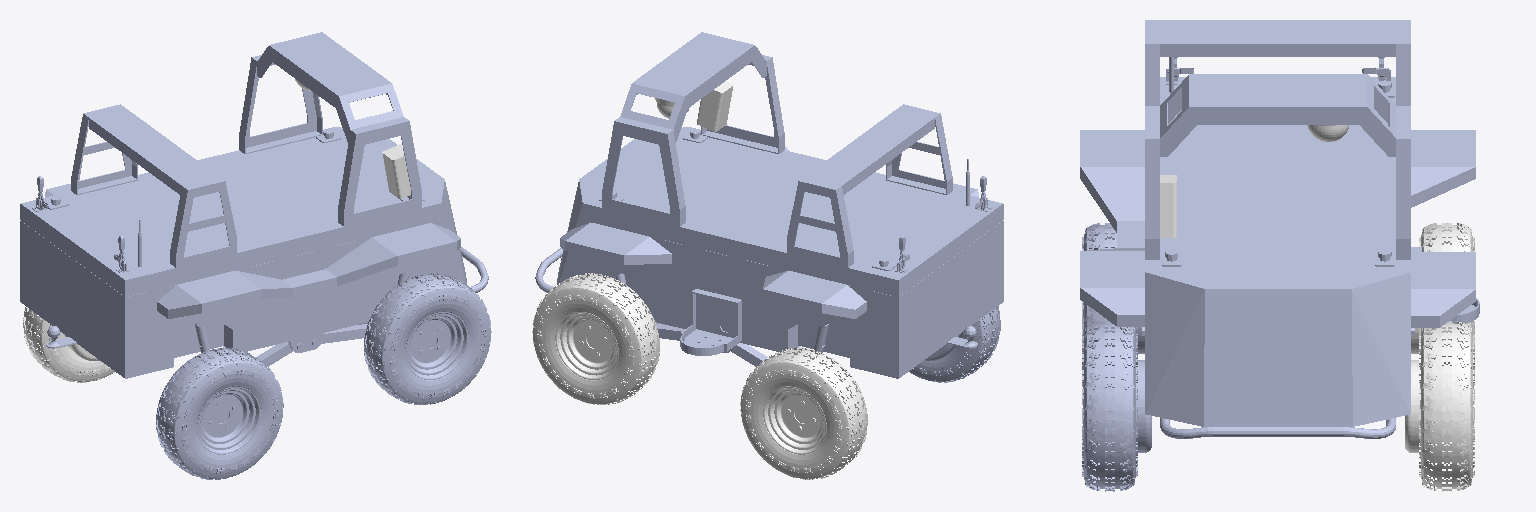
URDF robot description (RAMBLER_MODEL):
<?xml version="1.0" encoding="utf-8"?>
<!-- This URDF was automatically created by SolidWorks to URDF Exporter! Originally created by Stephen Brawner (brawner@gmail.com) 
     Commit Version: 1.6.0-4-g7f85cfe  Build Version: 1.6.7995.38578
     For more information, please see http://wiki.ros.org/sw_urdf_exporter -->
<robot
  name="RAMBLER_MODEL">
  <link
    name="Rambler-chasis">
    <inertial>
      <origin
        xyz="0.049839 -0.3194 0.81553"
        rpy="0 0 0" />
      <mass
        value="410.95" />
      <inertia
        ixx="95.795"
        ixy="-0.00061373"
        ixz="0.070807"
        iyy="118.73"
        iyz="0.56493"
        izz="49.215" />
    </inertial>
    <visual>
      <origin
        xyz="0 0 0"
        rpy="0 0 0" />
      <geometry>
        <mesh
          filename="package://RAMBLER_MODEL/meshes/Rambler-chasis.STL" />
      </geometry>
      <material
        name="">
        <color
          rgba="0.79216 0.81961 0.93333 1" />
      </material>
    </visual>
    <collision>
      <origin
        xyz="0 0 0"
        rpy="0 0 0" />
      <geometry>
        <mesh
          filename="package://RAMBLER_MODEL/meshes/Rambler-chasis.STL" />
      </geometry>
    </collision>
  </link>
  <link
    name="Suspension-delante-dcha">
    <inertial>
      <origin
        xyz="0.049839 -0.3194 0.81553"
        rpy="0 0 0" />
      <mass
        value="410.95" />
      <inertia
        ixx="95.795"
        ixy="-0.00061373"
        ixz="0.070807"
        iyy="118.73"
        iyz="0.56493"
        izz="49.215" />
    </inertial>
    <visual>
      <origin
        xyz="0 0 0"
        rpy="0 0 0" />
      <geometry>
        <mesh
          filename="package://RAMBLER_MODEL/meshes/Suspension-delante-dcha.STL" />
      </geometry>
      <material
        name="">
        <color
          rgba="0.79216 0.81961 0.93333 1" />
      </material>
    </visual>
    <collision>
      <origin
        xyz="0 0 0"
        rpy="0 0 0" />
      <geometry>
        <mesh
          filename="package://RAMBLER_MODEL/meshes/Suspension-delante-dcha.STL" />
      </geometry>
    </collision>
  </link>
  <joint
    name="suspension-delante-dcha"
    type="revolute">
    <origin
      xyz="0.033294 0 -0.03"
      rpy="3.1416 0 1.5708" />
    <parent
      link="Rambler-chasis" />
    <child
      link="Suspension-delante-dcha" />
    <axis
      xyz="1 0 0" />
    <limit
      lower="0"
      upper="0.47124"
      effort="0"
      velocity="0" />
  </joint>
  <link
    name="Piston-delante-dcha">
    <inertial>
      <origin
        xyz="0.049839 -0.3194 0.81553"
        rpy="0 0 0" />
      <mass
        value="410.95" />
      <inertia
        ixx="95.795"
        ixy="-0.00061373"
        ixz="0.070807"
        iyy="118.73"
        iyz="0.56493"
        izz="49.215" />
    </inertial>
    <visual>
      <origin
        xyz="0 0 0"
        rpy="0 0 0" />
      <geometry>
        <mesh
          filename="package://RAMBLER_MODEL/meshes/Piston-delante-dcha.STL" />
      </geometry>
      <material
        name="">
        <color
          rgba="0.79216 0.81961 0.93333 1" />
      </material>
    </visual>
    <collision>
      <origin
        xyz="0 0 0"
        rpy="0 0 0" />
      <geometry>
        <mesh
          filename="package://RAMBLER_MODEL/meshes/Piston-delante-dcha.STL" />
      </geometry>
    </collision>
  </link>
  <joint
    name="piston-delante-dcha"
    type="revolute">
    <origin
      xyz="-0.36 0.37595 0.015382"
      rpy="0 0 0" />
    <parent
      link="Suspension-delante-dcha" />
    <child
      link="Piston-delante-dcha" />
    <axis
      xyz="-1 0 0" />
    <limit
      lower="0"
      upper="0.43633"
      effort="0"
      velocity="0" />
  </joint>
  <link
    name="Rueda-delante-dcha">
    <inertial>
      <origin
        xyz="0.0498394090259186 -0.319396233416161 0.815532777176436"
        rpy="0 0 0" />
      <mass
        value="410.95" />
      <inertia
        ixx="95.7952062704607"
        ixy="-0.000613730429750716"
        ixz="0.0708074089645571"
        iyy="118.733433081717"
        iyz="0.564932560850824"
        izz="49.2145028687947" />
    </inertial>
    <visual>
      <origin
        xyz="0 0 0"
        rpy="0 0 0" />
      <geometry>
        <mesh
          filename="package://RAMBLER_MODEL/meshes/Rueda-delante-dcha.STL" />
      </geometry>
      <material
        name="">
        <color
          rgba="0.792156862745098 0.819607843137255 0.933333333333333 1" />
      </material>
    </visual>
    <collision>
      <origin
        xyz="0 0 0"
        rpy="0 0 0" />
      <geometry>
        <cylinder length="0.165" radius="0.50"/>
        <!--mesh
          filename="package://RAMBLER_MODEL/meshes/Rueda-delante-dcha.STL" /-->
      </geometry>
    </collision>
  </link>
  <joint
    name="rueda-delante-dcha"
    type="continuous">
    <origin
      xyz="-0.522445710742998 0.435600590171303 0.0457834669112627"
      rpy="3.14159265358979 0 1.5707963267949" />
    <parent
      link="Suspension-delante-dcha" />
    <child
      link="Rueda-delante-dcha" />
    <axis
      xyz="0 1 0" />
  </joint>
  <link
    name="Suspension-delante-izq">
    <inertial>
      <origin
        xyz="0.049839 -0.3194 0.81553"
        rpy="0 0 0" />
      <mass
        value="410.95" />
      <inertia
        ixx="95.795"
        ixy="-0.00061373"
        ixz="0.070807"
        iyy="118.73"
        iyz="0.56493"
        izz="49.215" />
    </inertial>
    <visual>
      <origin
        xyz="0 0 0"
        rpy="0 0 0" />
      <geometry>
        <mesh
          filename="package://RAMBLER_MODEL/meshes/Suspension-delante-izq.STL" />
      </geometry>
      <material
        name="">
        <color
          rgba="0.79216 0.81961 0.93333 1" />
      </material>
    </visual>
    <collision>
      <origin
        xyz="0 0 0"
        rpy="0 0 0" />
      <geometry>
        <mesh
          filename="package://RAMBLER_MODEL/meshes/Suspension-delante-izq.STL" />
      </geometry>
    </collision>
  </link>
  <joint
    name="suspension-delante-izq"
    type="revolute">
    <origin
      xyz="0.033294 0 -0.03"
      rpy="3.1416 0 1.5708" />
    <parent
      link="Rambler-chasis" />
    <child
      link="Suspension-delante-izq" />
    <axis
      xyz="1 0 0" />
    <limit
      lower="0"
      upper="0.47124"
      effort="0"
      velocity="0" />
  </joint>
  <link
    name="Piston-delante-izq">
    <inertial>
      <origin
        xyz="0.0498394090259186 -0.319396233416161 0.815532777176436"
        rpy="0 0 0" />
      <mass
        value="410.95" />
      <inertia
        ixx="95.7952062704607"
        ixy="-0.000613730429750716"
        ixz="0.0708074089645571"
        iyy="118.733433081717"
        iyz="0.564932560850824"
        izz="49.2145028687947" />
    </inertial>
    <visual>
      <origin
        xyz="0 0 0"
        rpy="0 0 0" />
      <geometry>
        <mesh
          filename="package://RAMBLER_MODEL/meshes/Piston-delante-izq.STL" />
      </geometry>
      <material
        name="">
        <color
          rgba="0.792156862745098 0.819607843137255 0.933333333333333 1" />
      </material>
    </visual>
    <collision>
      <origin
        xyz="0 0 0"
        rpy="0 0 0" />
      <geometry>
        <mesh
          filename="package://RAMBLER_MODEL/meshes/Piston-delante-izq.STL" />
      </geometry>
    </collision>
  </link>
  <joint
    name="piston-delante-izq"
    type="revolute">
    <origin
      xyz="-0.36 0.37595 0.015382"
      rpy="0 0 0" />
    <parent
      link="Suspension-delante-izq" />
    <child
      link="Piston-delante-izq" />
    <axis
      xyz="-1 0 0" />
    <limit
      lower="0"
      upper="0.43633"
      effort="0"
      velocity="0" />
  </joint>
  <link
    name="Rueda-delante-izq">
    <inertial>
      <origin
        xyz="0.0498394090259186 -0.319396233416161 0.815532777176436"
        rpy="0 0 0" />
      <mass
        value="410.95" />
      <inertia
        ixx="95.7952062704607"
        ixy="-0.000613730429750716"
        ixz="0.0708074089645571"
        iyy="118.733433081717"
        iyz="0.564932560850824"
        izz="49.2145028687947" />
    </inertial>
    <visual>
      <origin
        xyz="0 0 0"
        rpy="0 0 0" />
      <geometry>
        <mesh
          filename="package://RAMBLER_MODEL/meshes/Rueda-delante-izq.STL" />
      </geometry>
      <material
        name="">
        <color
          rgba="1 1 1 1" />
      </material>
    </visual>
    <collision>
      <origin
        xyz="0 0 0"
        rpy="0 0 0" />
      <geometry>
        <cylinder length="0.165" radius="0.50"/>
        <!--mesh
          filename="package://RAMBLER_MODEL/meshes/Rueda-delante-izq.STL" /-->
      </geometry>
    </collision>
  </link>
  <joint
    name="rueda-delante-izq"
    type="continuous">
    <origin
      xyz="0.52245 0.4356 0.045783"
      rpy="3.1416 0 1.5708" />
    <parent
      link="Suspension-delante-izq" />
    <child
      link="Rueda-delante-izq" />
    <axis
      xyz="0 1 0" />
  </joint>
  <link
    name="Suspension-atras-dcha">
    <inertial>
      <origin
        xyz="0.0498394090259186 -0.319396233416161 0.815532777176436"
        rpy="0 0 0" />
      <mass
        value="410.95" />
      <inertia
        ixx="95.7952062704607"
        ixy="-0.000613730429750716"
        ixz="0.0708074089645571"
        iyy="118.733433081717"
        iyz="0.564932560850824"
        izz="49.2145028687947" />
    </inertial>
    <visual>
      <origin
        xyz="0 0 0"
        rpy="0 0 0" />
      <geometry>
        <mesh
          filename="package://RAMBLER_MODEL/meshes/Suspension-atras-dcha.STL" />
      </geometry>
      <material
        name="">
        <color
          rgba="0.792156862745098 0.819607843137255 0.933333333333333 1" />
      </material>
    </visual>
    <collision>
      <origin
        xyz="0 0 0"
        rpy="0 0 0" />
      <geometry>
        <mesh
          filename="package://RAMBLER_MODEL/meshes/Suspension-atras-dcha.STL" />
      </geometry>
    </collision>
  </link>
  <joint
    name="suspension-atras-dcha"
    type="revolute">
    <origin
      xyz="-0.033294 0 -0.03"
      rpy="3.1416 0 1.5708" />
    <parent
      link="Rambler-chasis" />
    <child
      link="Suspension-atras-dcha" />
    <axis
      xyz="1 0 0" />
    <limit
      lower="5.812"
      upper="6.2832"
      effort="0"
      velocity="0" />
  </joint>
  <link
    name="Piston-atras-dcha">
    <inertial>
      <origin
        xyz="0.0498394090259186 -0.319396233416161 0.815532777176436"
        rpy="0 0 0" />
      <mass
        value="410.95" />
      <inertia
        ixx="95.7952062704607"
        ixy="-0.000613730429750716"
        ixz="0.0708074089645571"
        iyy="118.733433081717"
        iyz="0.564932560850824"
        izz="49.2145028687947" />
    </inertial>
    <visual>
      <origin
        xyz="0 0 0"
        rpy="0 0 0" />
      <geometry>
        <mesh
          filename="package://RAMBLER_MODEL/meshes/Piston-atras-dcha.STL" />
      </geometry>
      <material
        name="">
        <color
          rgba="0.792156862745098 0.819607843137255 0.933333333333333 1" />
      </material>
    </visual>
    <collision>
      <origin
        xyz="0 0 0"
        rpy="0 0 0" />
      <geometry>
        <mesh
          filename="package://RAMBLER_MODEL/meshes/Piston-atras-dcha.STL" />
      </geometry>
    </collision>
  </link>
  <joint
    name="piston-atras-dcha"
    type="revolute">
    <origin
      xyz="-0.36 -0.37595 0.015382"
      rpy="0 0 0" />
    <parent
      link="Suspension-atras-dcha" />
    <child
      link="Piston-atras-dcha" />
    <axis
      xyz="-1 0 0" />
    <limit
      lower="5.8469"
      upper="6.2832"
      effort="0"
      velocity="0" />
  </joint>
  <link
    name="Rueda-atras-dcha">
    <inertial>
      <origin
        xyz="0.0498394090259186 -0.319396233416161 0.815532777176436"
        rpy="0 0 0" />
      <mass
        value="410.95" />
      <inertia
        ixx="95.7952062704607"
        ixy="-0.000613730429750716"
        ixz="0.0708074089645571"
        iyy="118.733433081717"
        iyz="0.564932560850824"
        izz="49.2145028687947" />
    </inertial>
    <visual>
      <origin
        xyz="0 0 0"
        rpy="0 0 0" />
      <geometry>
        <mesh
          filename="package://RAMBLER_MODEL/meshes/Rueda-atras-dcha.STL" />
      </geometry>
      <material
        name="">
        <color
          rgba="0.792156862745098 0.819607843137255 0.933333333333333 1" />
      </material>
    </visual>
    <collision>
      <origin
        xyz="0 0 0"
        rpy="0 0 0" />
      <geometry>
        <cylinder length="0.165" radius="0.50"/>
        <!--mesh
          filename="package://RAMBLER_MODEL/meshes/Rueda-atras-dcha.STL" /-->
      </geometry>
    </collision>
  </link>
  <joint
    name="rueda-atras-dcha"
    type="continuous">
    <origin
      xyz="-0.522445710742998 -0.435600590171305 0.0457834669112622"
      rpy="3.14159265358979 0 1.5707963267949" />
    <parent
      link="Suspension-atras-dcha" />
    <child
      link="Rueda-atras-dcha" />
    <axis
      xyz="0 1 0" />
  </joint>
  <link
    name="Suspension-atras-izq">
    <inertial>
      <origin
        xyz="0.0498394090259186 -0.319396233416161 0.815532777176436"
        rpy="0 0 0" />
      <mass
        value="410.95" />
      <inertia
        ixx="95.7952062704607"
        ixy="-0.000613730429750716"
        ixz="0.0708074089645571"
        iyy="118.733433081717"
        iyz="0.564932560850824"
        izz="49.2145028687947" />
    </inertial>
    <visual>
      <origin
        xyz="0 0 0"
        rpy="0 0 0" />
      <geometry>
        <mesh
          filename="package://RAMBLER_MODEL/meshes/Suspension-atras-izq.STL" />
      </geometry>
      <material
        name="">
        <color
          rgba="0.792156862745098 0.819607843137255 0.933333333333333 1" />
      </material>
    </visual>
    <collision>
      <origin
        xyz="0 0 0"
        rpy="0 0 0" />
      <geometry>
        <mesh
          filename="package://RAMBLER_MODEL/meshes/Suspension-atras-izq.STL" />
      </geometry>
    </collision>
  </link>
  <joint
    name="suspension-atras-izq"
    type="revolute">
    <origin
      xyz="-0.033294 0 -0.03"
      rpy="3.1416 0 1.5708" />
    <parent
      link="Rambler-chasis" />
    <child
      link="Suspension-atras-izq" />
    <axis
      xyz="1 0 0" />
    <limit
      lower="5.812"
      upper="6.2832"
      effort="0"
      velocity="0" />
  </joint>
  <link
    name="Piston-atras-izq">
    <inertial>
      <origin
        xyz="0.0498394090259186 -0.319396233416161 0.815532777176436"
        rpy="0 0 0" />
      <mass
        value="410.95" />
      <inertia
        ixx="95.7952062704607"
        ixy="-0.000613730429750716"
        ixz="0.0708074089645571"
        iyy="118.733433081717"
        iyz="0.564932560850824"
        izz="49.2145028687947" />
    </inertial>
    <visual>
      <origin
        xyz="0 0 0"
        rpy="0 0 0" />
      <geometry>
        <mesh
          filename="package://RAMBLER_MODEL/meshes/Piston-atras-izq.STL" />
      </geometry>
      <material
        name="">
        <color
          rgba="0.792156862745098 0.819607843137255 0.933333333333333 1" />
      </material>
    </visual>
    <collision>
      <origin
        xyz="0 0 0"
        rpy="0 0 0" />
      <geometry>
        <mesh
          filename="package://RAMBLER_MODEL/meshes/Piston-atras-izq.STL" />
      </geometry>
    </collision>
  </link>
  <joint
    name="piston-atras-izq"
    type="revolute">
    <origin
      xyz="-0.36 -0.37595 0.015382"
      rpy="0 0 0" />
    <parent
      link="Suspension-atras-izq" />
    <child
      link="Piston-atras-izq" />
    <axis
      xyz="-1 0 0" />
    <limit
      lower="5.8469"
      upper="6.2832"
      effort="0"
      velocity="0" />
  </joint>
  <link
    name="Rueda-atras-izq">
    <inertial>
      <origin
        xyz="0.0498394090259186 -0.319396233416161 0.815532777176436"
        rpy="0 0 0" />
      <mass
        value="410.95" />
      <inertia
        ixx="95.7952062704607"
        ixy="-0.000613730429750716"
        ixz="0.0708074089645571"
        iyy="118.733433081717"
        iyz="0.564932560850824"
        izz="49.2145028687947" />
    </inertial>
    <visual>
      <origin
        xyz="0 0 0"
        rpy="0 0 0" />
      <geometry>
        <mesh
          filename="package://RAMBLER_MODEL/meshes/Rueda-atras-izq.STL" />
      </geometry>
      <material
        name="">
        <color
          rgba="1 1 1 1" />
      </material>
    </visual>
    <collision>
      <origin
        xyz="0 0 0"
        rpy="0 0 0" />
      <geometry>
        <cylinder length="0.165" radius="0.50"/>
        <!--mesh
          filename="package://RAMBLER_MODEL/meshes/Rueda-atras-izq.STL" /-->
      </geometry>
    </collision>
  </link>
  <joint
    name="rueda-atras-izq"
    type="continuous">
    <origin
      xyz="0.52245 -0.4356 0.045783"
      rpy="3.1416 0 1.5708" />
    <parent
      link="Suspension-atras-izq" />
    <child
      link="Rueda-atras-izq" />
    <axis
      xyz="0 1 0" />
  </joint>
  <link
    name="Perifericos-Sensores">
    <inertial>
      <origin
        xyz="0.0498394090259186 -0.319396233416161 0.815532777176436"
        rpy="0 0 0" />
      <mass
        value="410.95" />
      <inertia
        ixx="95.7952062704607"
        ixy="-0.000613730429750716"
        ixz="0.0708074089645571"
        iyy="118.733433081717"
        iyz="0.564932560850824"
        izz="49.2145028687947" />
    </inertial>
    <visual>
      <origin
        xyz="0 0 0"
        rpy="0 0 0" />
      <geometry>
        <mesh
          filename="package://RAMBLER_MODEL/meshes/Perifericos-Sensores.STL" />
      </geometry>
      <material
        name="">
        <color
          rgba="1 1 1 1" />
      </material>
    </visual>
    <collision>
      <origin
        xyz="0 0 0"
        rpy="0 0 0" />
      <geometry>
        <mesh
          filename="package://RAMBLER_MODEL/meshes/Perifericos-Sensores.STL" />
      </geometry>
    </collision>
  </link>
  <joint
    name="perifericos-sensores"
    type="fixed">
    <origin
      xyz="0 0 0"
      rpy="0 0 0" />
    <parent
      link="Rambler-chasis" />
    <child
      link="Perifericos-Sensores" />
    <axis
      xyz="0 0 0" />
  </joint>
  <link
    name="WiFi-Router">
    <inertial>
      <origin
        xyz="0.0498394090259186 -0.319396233416161 0.815532777176436"
        rpy="0 0 0" />
      <mass
        value="410.95" />
      <inertia
        ixx="95.7952062704607"
        ixy="-0.000613730429750716"
        ixz="0.0708074089645571"
        iyy="118.733433081717"
        iyz="0.564932560850824"
        izz="49.2145028687947" />
    </inertial>
    <visual>
      <origin
        xyz="0 0 0"
        rpy="0 0 0" />
      <geometry>
        <mesh
          filename="package://RAMBLER_MODEL/meshes/WiFi-Router.STL" />
      </geometry>
      <material
        name="">
        <color
          rgba="1 1 1 1" />
      </material>
    </visual>
    <collision>
      <origin
        xyz="0 0 0"
        rpy="0 0 0" />
      <geometry>
        <mesh
          filename="package://RAMBLER_MODEL/meshes/WiFi-Router.STL" />
      </geometry>
    </collision>
  </link>
  <joint
    name="WiFi-Router"
    type="fixed">
    <origin
      xyz="0 0 0"
      rpy="0 0 0" />
    <parent
      link="Perifericos-Sensores" />
    <child
      link="WiFi-Router" />
    <axis
      xyz="0 0 0" />
  </joint>
  <link
    name="Multisensor VRTK2">
    <inertial>
      <origin
        xyz="0.0498394090259186 -0.319396233416161 0.815532777176436"
        rpy="0 0 0" />
      <mass
        value="410.95" />
      <inertia
        ixx="95.7952062704607"
        ixy="-0.000613730429750716"
        ixz="0.0708074089645571"
        iyy="118.733433081717"
        iyz="0.564932560850824"
        izz="49.2145028687947" />
    </inertial>
    <visual>
      <origin
        xyz="0 0 0"
        rpy="0 0 0" />
      <geometry>
        <mesh
          filename="package://RAMBLER_MODEL/meshes/Multisensor VRTK2.STL" />
      </geometry>
      <material
        name="">
        <color
          rgba="0.752941176470588 0.752941176470588 0.752941176470588 1" />
      </material>
    </visual>
    <collision>
      <origin
        xyz="0 0 0"
        rpy="0 0 0" />
      <geometry>
        <box size="0.324 0.13 0.082"/>
        <!--<mesh
          filename="package://RAMBLER/meshes/Multisensor VRTK2.STL" />-->
      </geometry>
    </collision>
  </link>
  <joint
    name="Multisensor VRTK2"
    type="fixed">
    <origin
      xyz="0.34487 0.00025 0.99"
      rpy="0 0 0" />
    <parent
      link="Perifericos-Sensores" />
    <child
      link="Multisensor VRTK2" />
    <axis
      xyz="0 0 0" />
  </joint>
  <link
    name="Camara-PTZ">
    <inertial>
      <origin
        xyz="0.049839 -0.3194 0.81553"
        rpy="0 0 0" />
      <mass
        value="410.95" />
      <inertia
        ixx="95.795"
        ixy="-0.00061373"
        ixz="0.070807"
        iyy="118.73"
        iyz="0.56493"
        izz="49.215" />
    </inertial>
    <visual>
      <origin
        xyz="0 0 0"
        rpy="0 0 0" />
      <geometry>
        <mesh
          filename="package://RAMBLER_MODEL/meshes/Camara-PTZ.STL" />
      </geometry>
      <material
        name="">
        <color
          rgba="0.79216 0.81961 0.93333 1" />
      </material>
    </visual>
    <collision>
      <origin
        xyz="0 0 0"
        rpy="0 0 0" />
      <geometry>
        <mesh
          filename="package://RAMBLER_MODEL/meshes/Camara-PTZ.STL" />
      </geometry>
    </collision>
  </link>
  <joint
    name="Camara-PTZ"
    type="fixed">
    <origin
      xyz="0 0 0"
      rpy="0 0 0" />
    <parent
      link="Perifericos-Sensores" />
    <child
      link="Camara-PTZ" />
    <axis
      xyz="0 0 0" />
  </joint>
</robot>

--- What the picture shows (computed from the rendered views, not written in the file) ---
Views: 3 orthographic renders of the robot side by side, from view 1: azimuth 30°, elevation 25°; view 2: azimuth 150°, elevation 25°; view 3: azimuth 270°, elevation 25°.
Robot: RAMBLER_MODEL — 17 links, 16 joints (8 revolute, 4 continuous, 4 fixed); root link Rambler-chasis; default pose: all joints at 0 but 4 set to mid-range because 0 is outside their limits (suspension-atras-dcha = 6.05, piston-atras-dcha = 6.07, suspension-atras-izq = 6.05, piston-atras-izq = 6.07).
Links seen in each view (by area): view 1: Rambler-chasis, Rueda-atras-dcha, Rueda-delante-dcha, Rueda-atras-izq, Perifericos-Sensores, Suspension-delante-dcha; view 2: Rambler-chasis, Rueda-delante-izq, Rueda-atras-izq, Rueda-atras-dcha, Perifericos-Sensores; view 3: Rambler-chasis, Rueda-delante-izq, Rueda-delante-dcha, Rueda-atras-izq, Perifericos-Sensores, Rueda-atras-dcha.
Link boxes in pixels (x1,y1,x2,y2): Rambler-chasis: [20, 32, 488, 378]; Rueda-atras-dcha: [156, 348, 283, 479]; Rueda-delante-dcha: [364, 273, 491, 404]; Rueda-atras-izq: [23, 307, 114, 382]; Perifericos-Sensores: [295, 79, 410, 198]; Suspension-delante-dcha: [321, 322, 367, 343]; Rambler-chasis: [535, 32, 1003, 378]; Rueda-delante-izq: [532, 273, 659, 404]; Rueda-atras-izq: [740, 348, 867, 479]; Rueda-atras-dcha: [909, 306, 1000, 382]; Perifericos-Sensores: [655, 81, 732, 131]; Rambler-chasis: [1080, 20, 1479, 438]; Rueda-delante-izq: [1405, 321, 1474, 491]; Rueda-delante-dcha: [1082, 321, 1151, 491]; Rueda-atras-izq: [1411, 223, 1474, 370]; Perifericos-Sensores: [1160, 125, 1348, 237]; Rueda-atras-dcha: [1082, 223, 1144, 353].
Bounding box of the posed robot: 1.8 × 1.2 × 1.34 m (x, y, z).
Meshes: 17 distinct files referenced, 16 mesh visuals loaded (16 binary STL); not drawn: 1 (reference not matched to a file when rendering).
